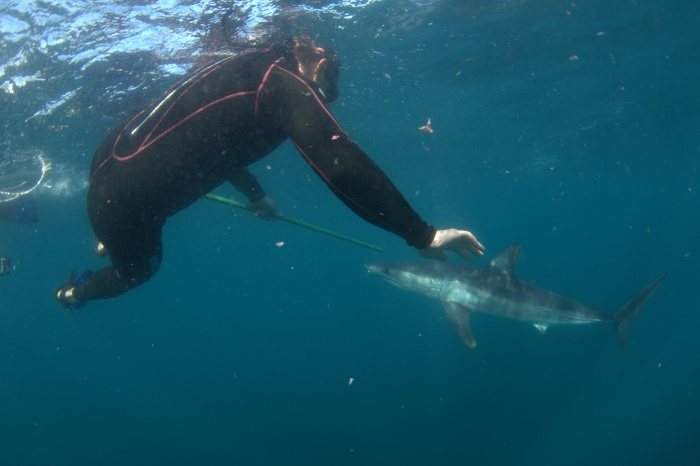Mako: (339, 240, 673, 384)
